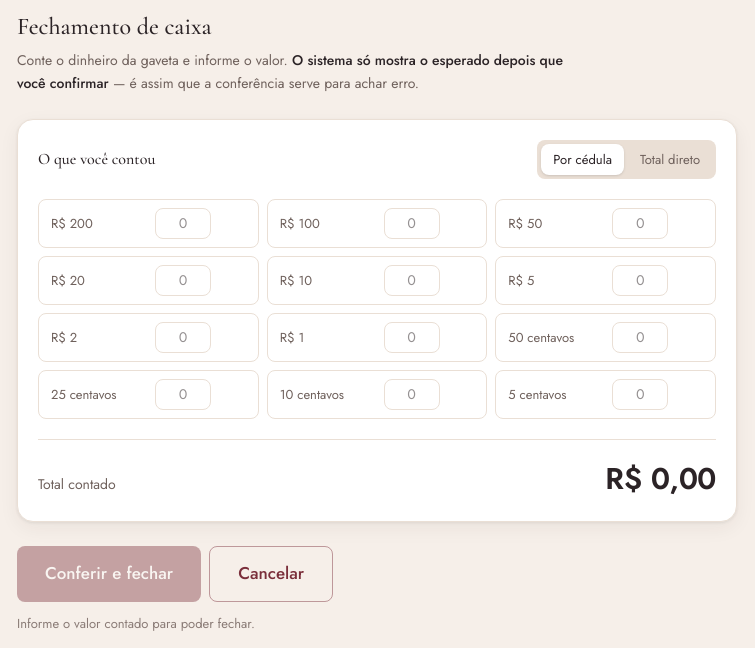
Test: TelaFecharCaixa — conferência às cegas › soma a contagem por cédula ao vivo
Type "3" into the number field labelled "R$ 50" at (640, 224), box [612,208,668,239]
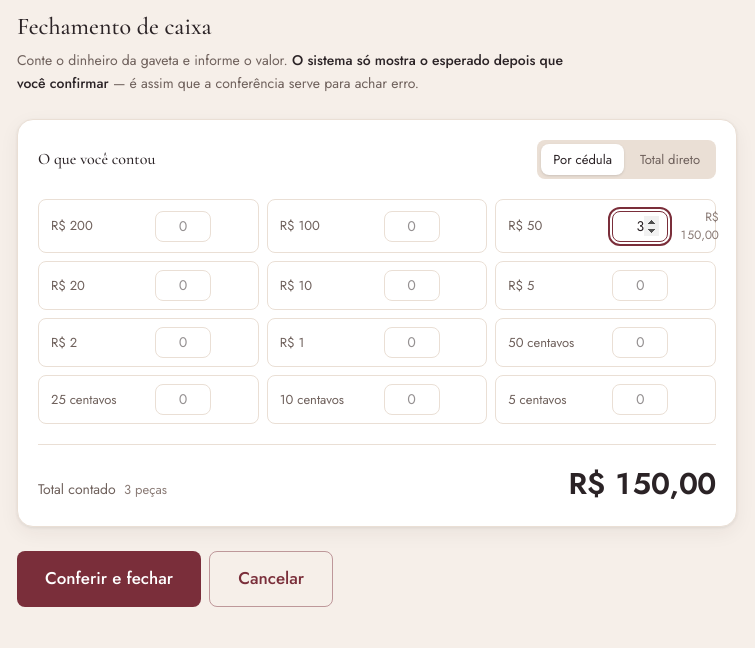
Type "2" into the number field labelled "R$ 10" at (412, 286), box [384,270,440,301]
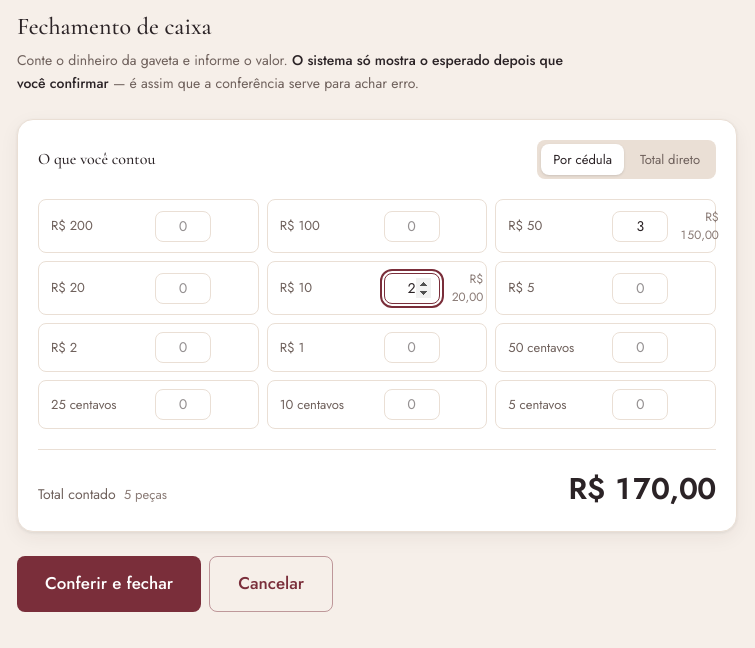
Expected: the text with test id "total-contado" reads "R$ 170,00", [568,467,716,510]
